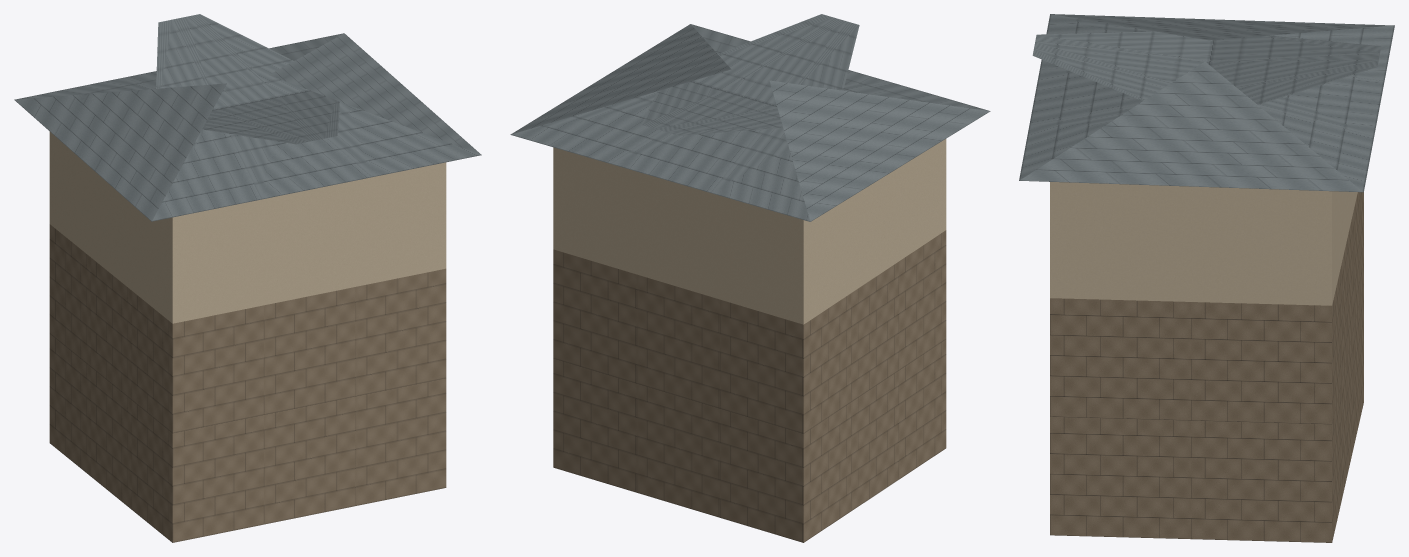
File: bld_c-2_-55_749.gltf
3 renders of one model, left to right at view 1: azimuth 30°, elevation 25°; view 2: azimuth 150°, elevation 25°; view 3: azimuth 270°, elevation 25°, orthographic. The views are drawn at different scales.
Visible parts, largest first — view 1: bld_c-2_-55_749; view 2: bld_c-2_-55_749; view 3: bld_c-2_-55_749.
Part boxes in pixels (box(x1,y1,x2,y2)): bld_c-2_-55_749: box(14, 14, 481, 542); bld_c-2_-55_749: box(510, 14, 990, 542); bld_c-2_-55_749: box(1019, 14, 1394, 542).
Bounding box in the file's own units: 7.32 × 8 × 6.52.
Materials: 3 (3 with a texture image).
